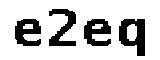2: (47, 6, 81, 50)
e: (11, 17, 44, 49), (83, 18, 113, 49)
q: (117, 13, 149, 60)
